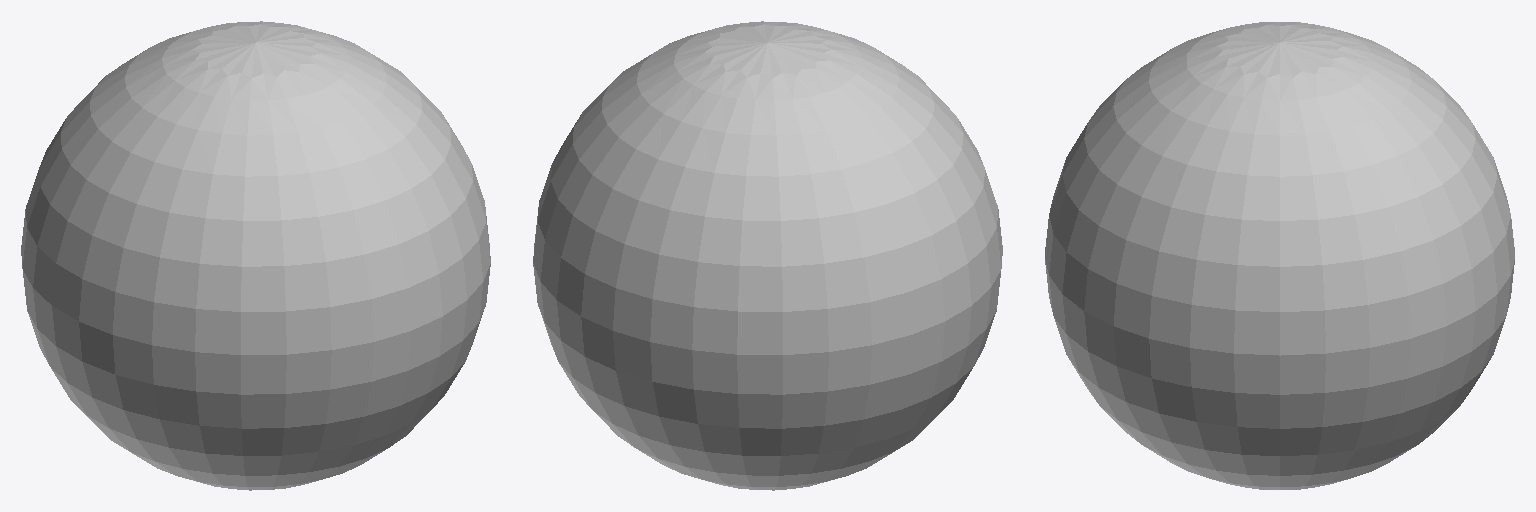
File: earth.obj
The picture shows the model from 3 angles: view 1: azimuth 30°, elevation 25°; view 2: azimuth 150°, elevation 25°; view 3: azimuth 270°, elevation 25°; orthographic projection.
Parts seen in each view (by area): view 1: Atmo_Sphere.001; view 2: Atmo_Sphere.001; view 3: Atmo_Sphere.001.
Part boxes in pixels (x1,y1,x2,y2): Atmo_Sphere.001: (21, 21, 490, 490); Atmo_Sphere.001: (533, 21, 1002, 490); Atmo_Sphere.001: (1045, 22, 1514, 489).
Size of the model in its own units: 12.84 by 12.84 by 12.84.